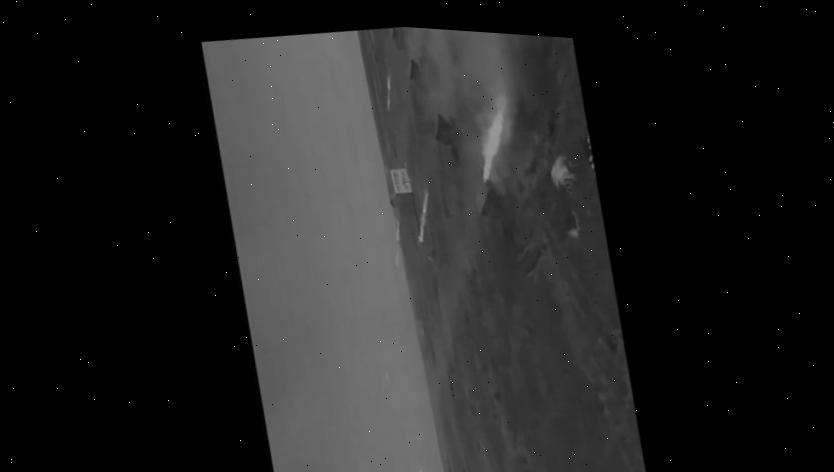rszo: (472, 173, 511, 219), (401, 50, 440, 95), (376, 25, 415, 60), (430, 108, 460, 148)
